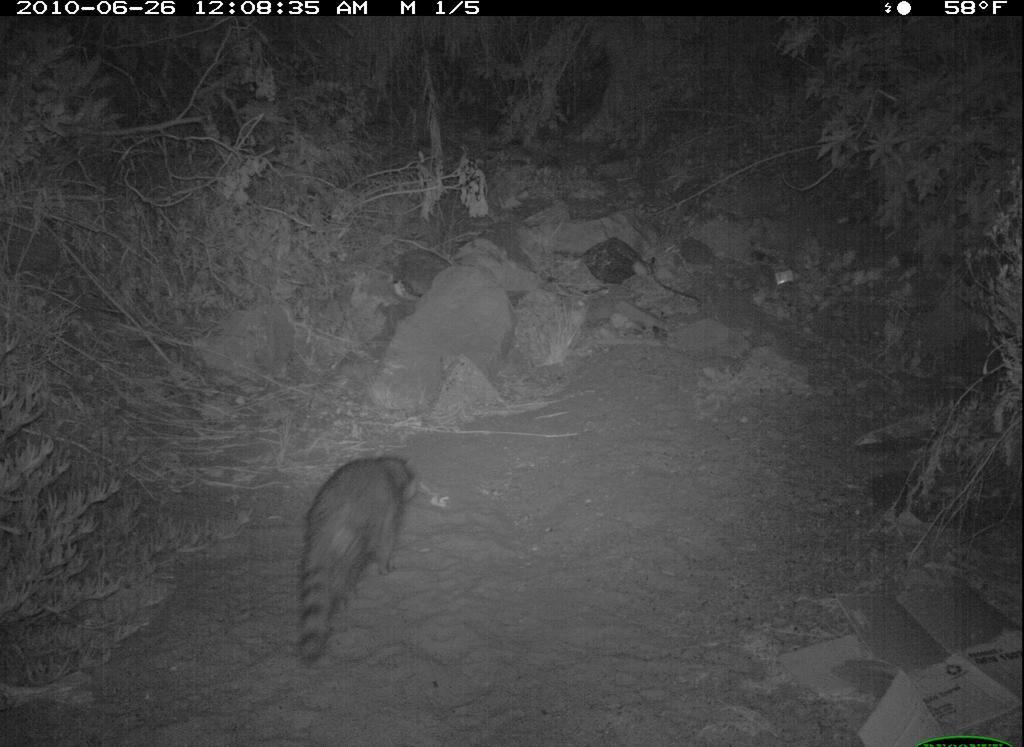raccoon: (285, 454, 424, 664)
